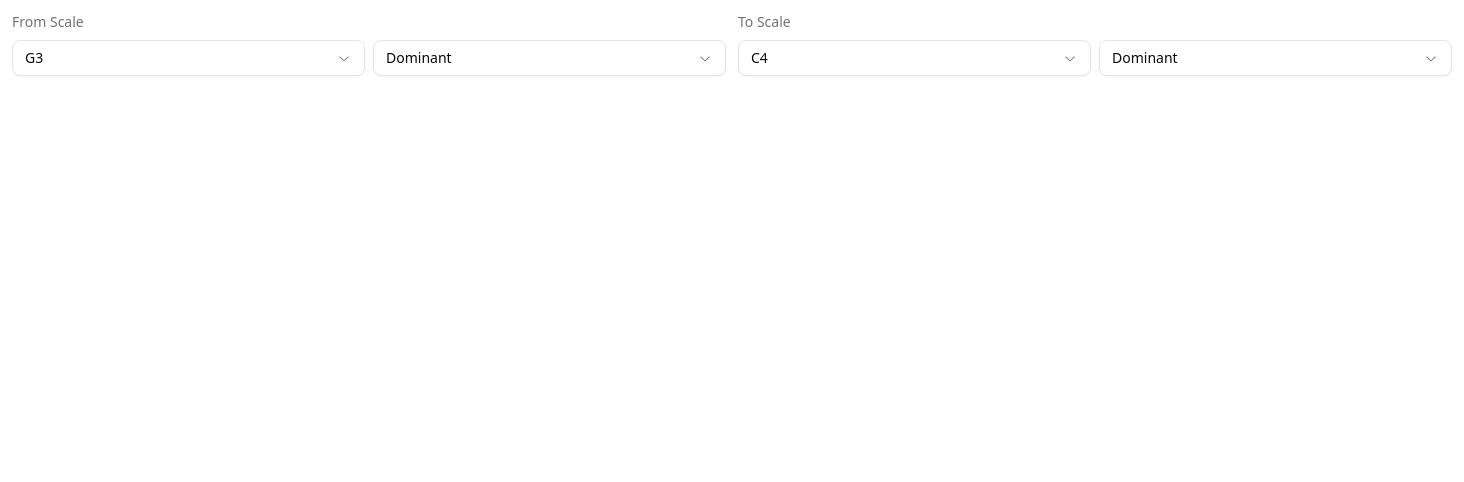
ScaleSelector › renders all available notes and scale types
Click the dropdown labelled "G3" at (30, 58), box [12,40,365,76]
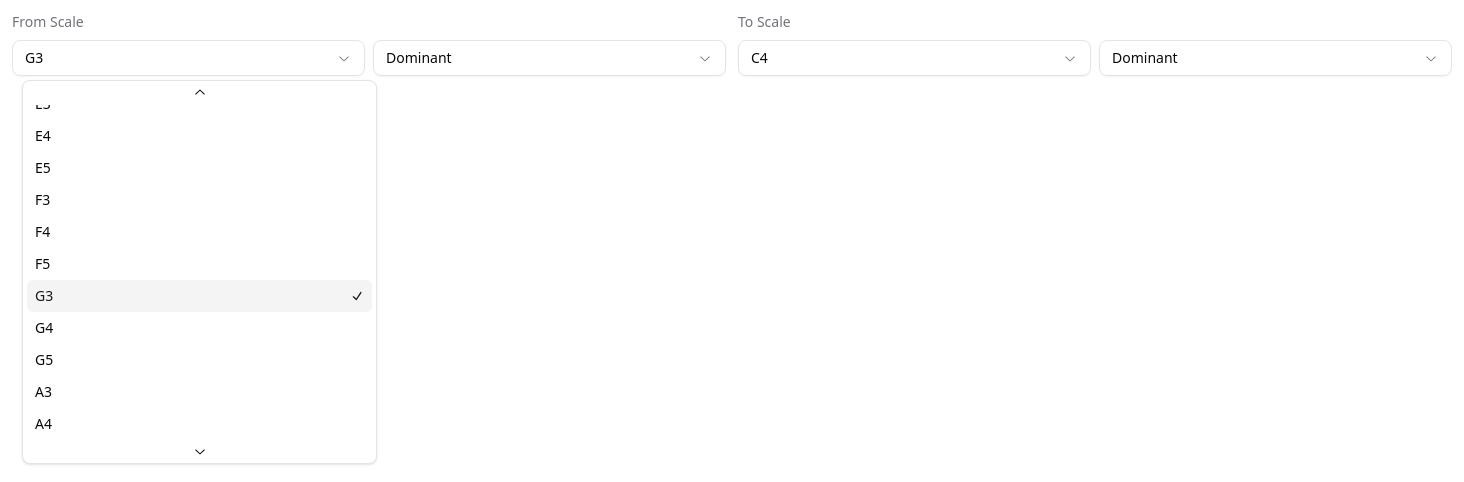
Expected: the option "E4" is shown, [35,126,51,145]
Expected: the option "F3" is shown, [35,190,50,209]
Expected: the option "G3" is shown, [27,280,372,312]
Press Escape
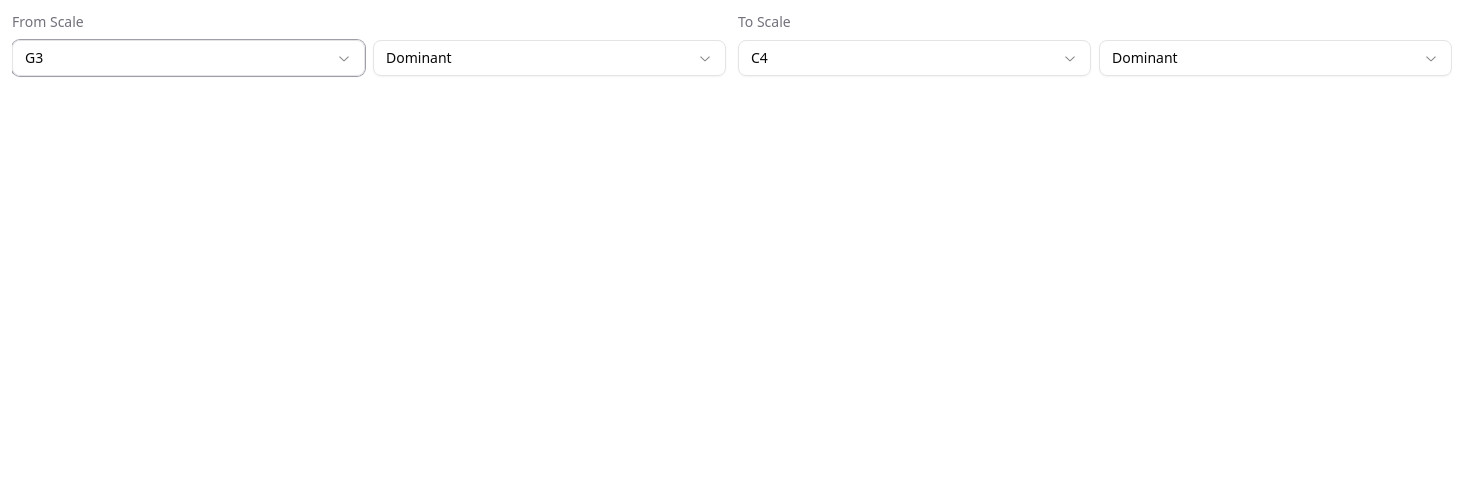
Click the 1st dropdown labelled "Dominant" at (419, 58), box [373,40,726,76]
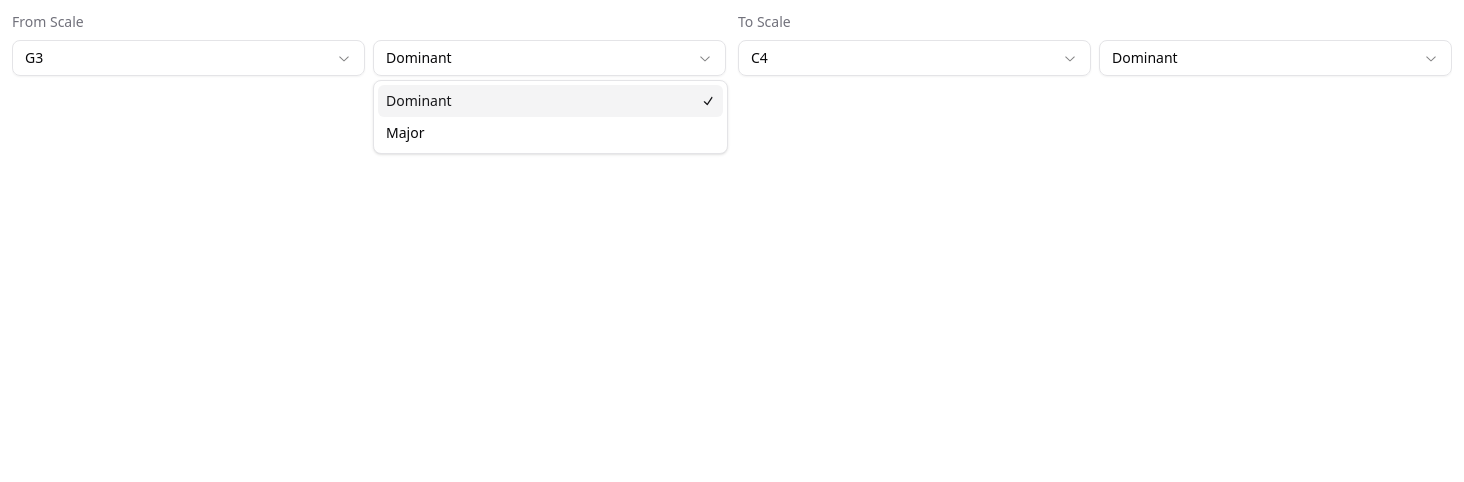
Expected: the option "Dominant" is shown, [378,85,723,117]
Expected: the option "Major" is shown, [386,123,424,142]
